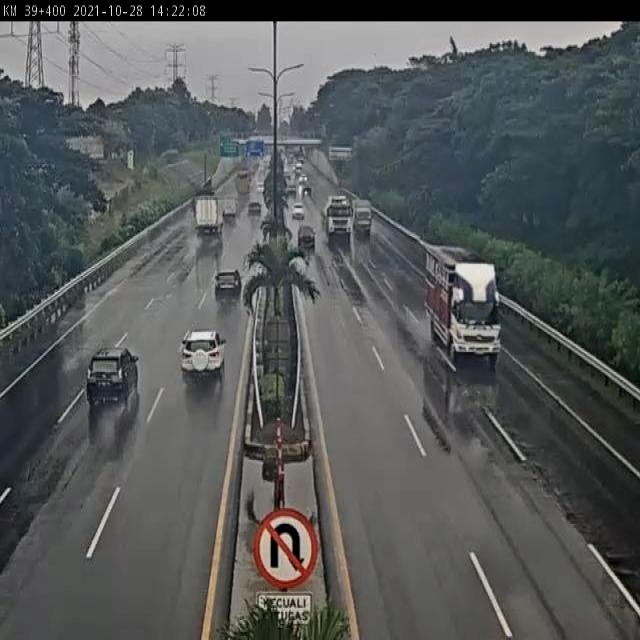Bus: (235, 169, 250, 194)
Car: (85, 347, 139, 406), (180, 328, 227, 381), (213, 269, 241, 298), (297, 224, 315, 247), (291, 202, 304, 218), (248, 201, 261, 214), (302, 186, 312, 197), (298, 173, 308, 184), (256, 182, 266, 193), (287, 184, 297, 194)
Truck: (423, 242, 504, 363), (323, 192, 353, 242), (194, 193, 224, 234), (352, 198, 374, 236), (224, 196, 238, 219)
